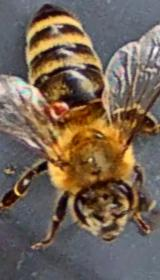varroa_mite: (40, 91, 76, 123)
